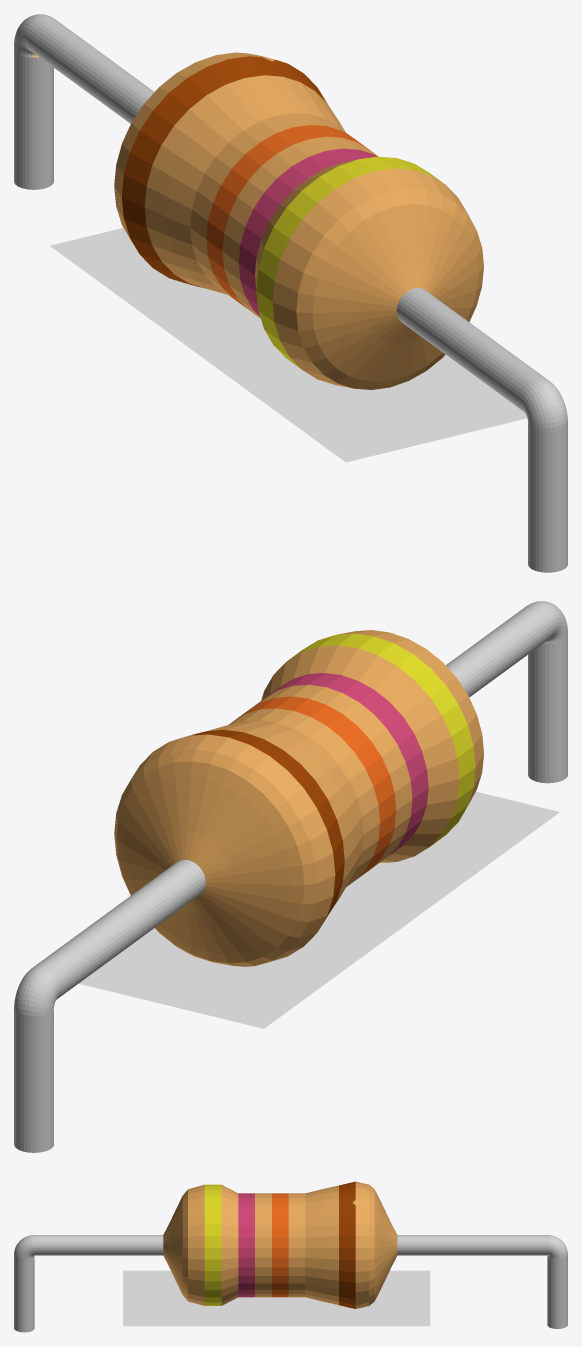
Rendered from R5_tan_2.gltf.
The picture shows the model from 3 angles, top to bottom: view 1: azimuth 30°, elevation 25°; view 2: azimuth 150°, elevation 25°; view 3: azimuth 270°, elevation 25°; orthographic projection. The views are drawn at different scales.
Visible parts, largest first — view 1: R5_tan_2, R5_tan_2_plane; view 2: R5_tan_2, R5_tan_2_plane; view 3: R5_tan_2, R5_tan_2_plane.
Part boxes in pixels (x1=…): R5_tan_2: x1=14, y1=14, x2=567, y2=572; R5_tan_2_plane: x1=50, y1=227, x2=527, y2=462; R5_tan_2: x1=14, y1=601, x2=567, y2=1152; R5_tan_2_plane: x1=79, y1=791, x2=559, y2=1028; R5_tan_2: x1=14, y1=1181, x2=567, y2=1332; R5_tan_2_plane: x1=123, y1=1270, x2=430, y2=1326.
Size of the model in its own units: 0.0161 by 0.0189 by 0.0676.
